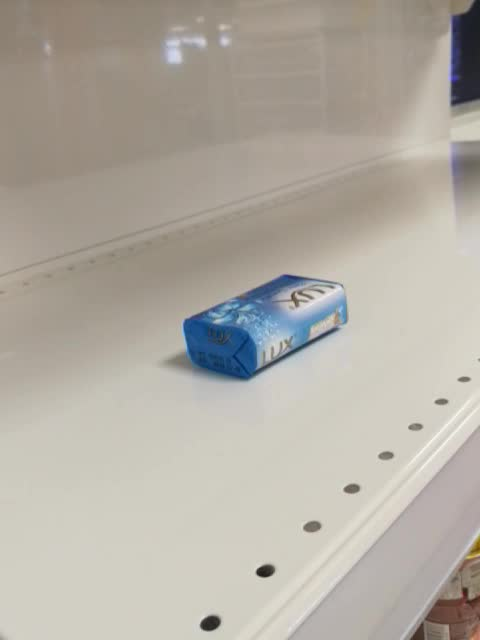soap: (183, 274, 349, 382)
